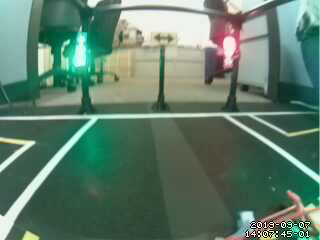Left_Right_sign: (149, 31, 178, 48)
Traffic_light_green: (70, 33, 88, 67)
Traffic_light_red: (219, 34, 238, 71)
